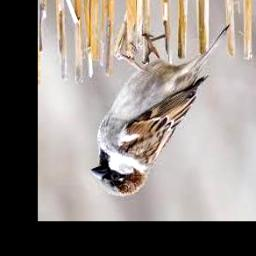Sparrow: (90, 25, 231, 197)
